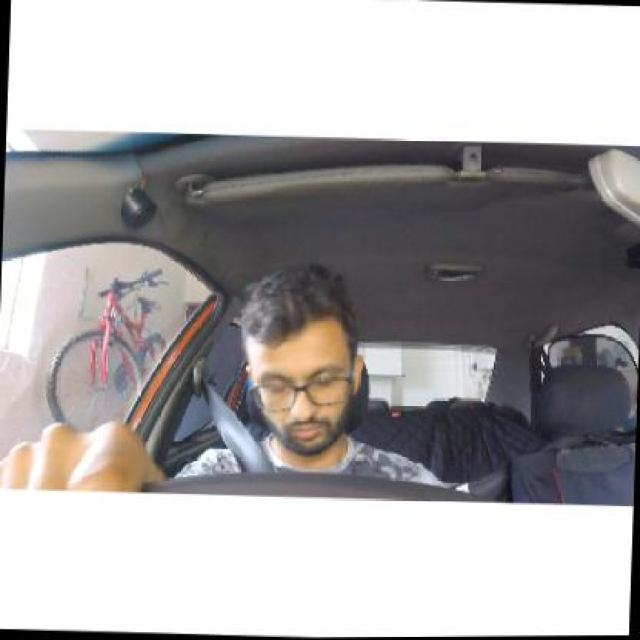drowsy: (218, 268, 383, 466)
